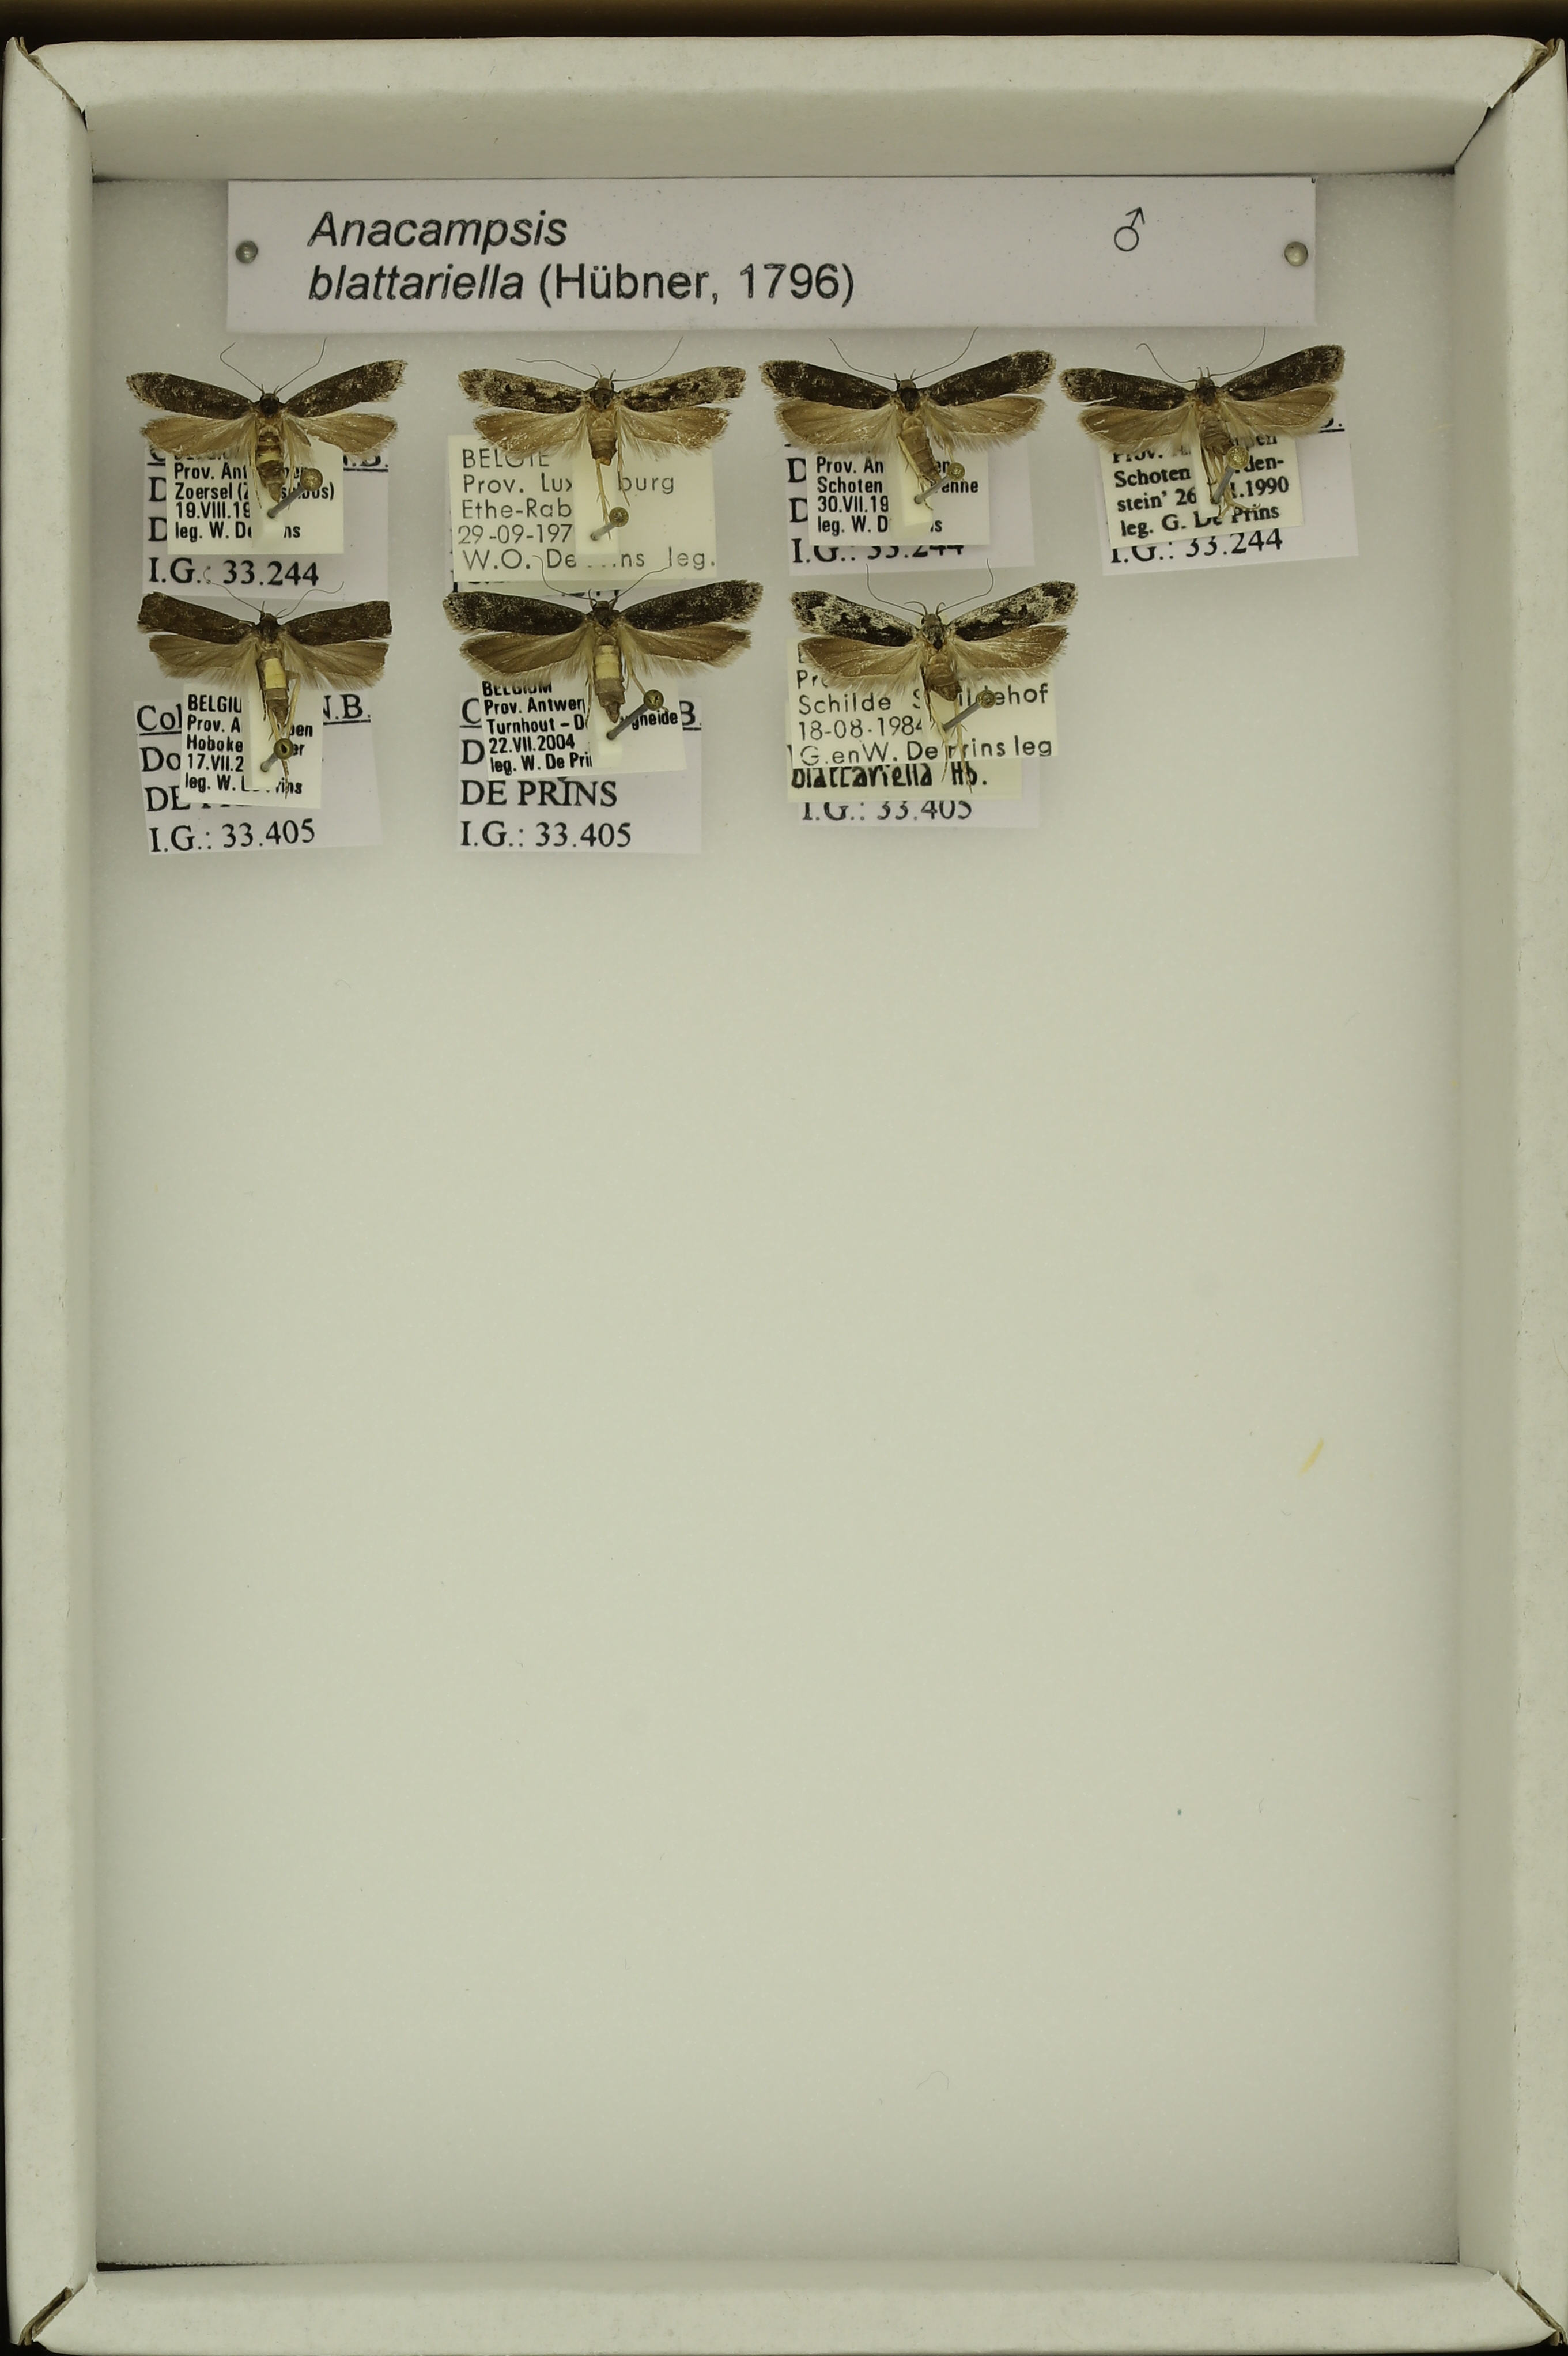insect: (431, 560, 774, 718), (110, 338, 413, 504), (124, 567, 406, 730), (756, 345, 1057, 492), (782, 572, 1090, 697), (1059, 336, 1353, 466), (451, 350, 749, 471)
